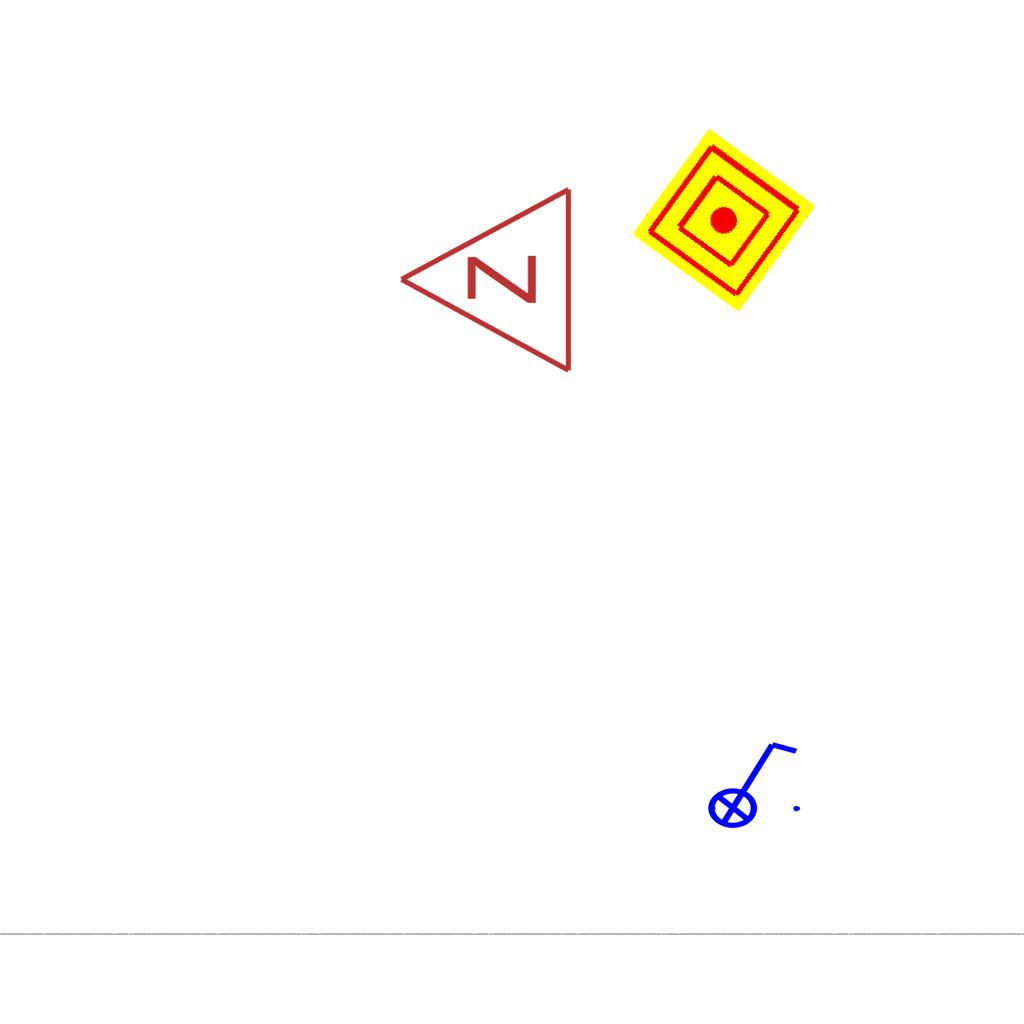Ausschalter_beleuchtet: (694, 734, 806, 830)
NAM-Nichtautomatischer_Melder: (631, 127, 817, 313)
Zimmersignalleuchte: (386, 184, 586, 380)
